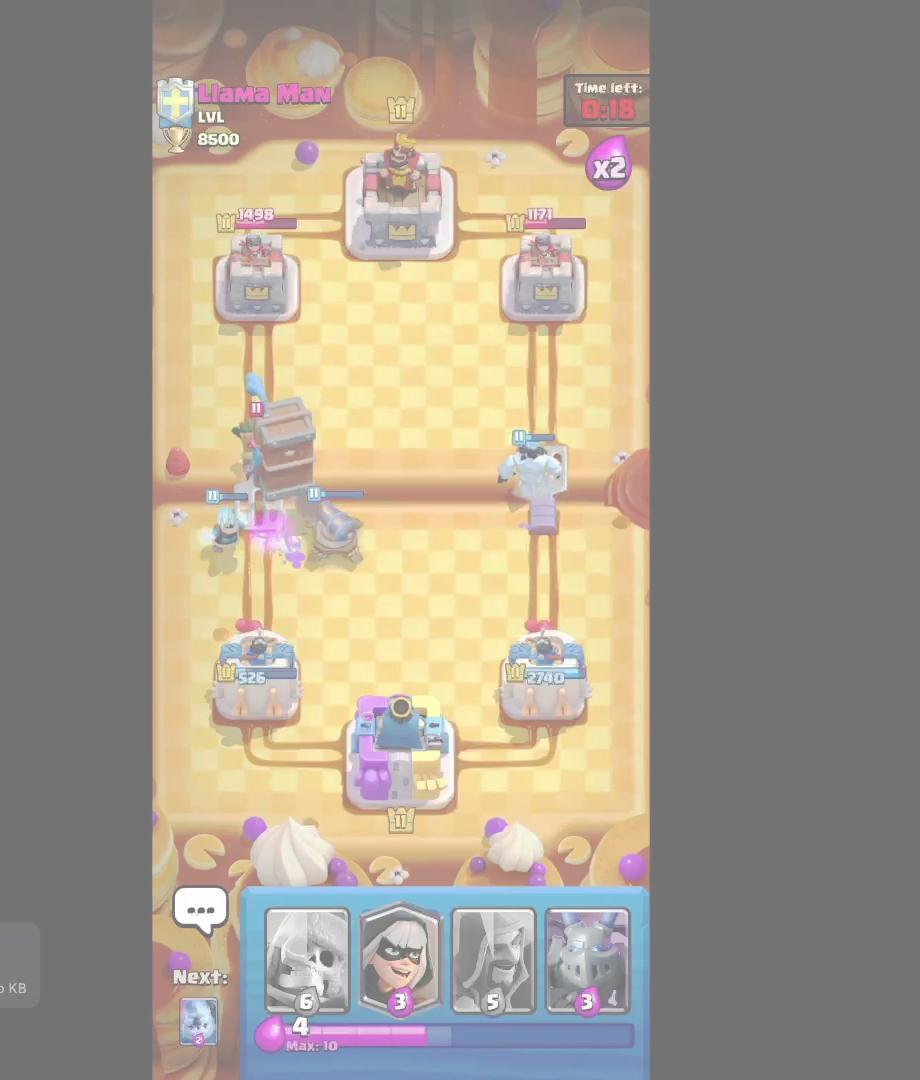Dart Goblin: (234, 399, 265, 461)
